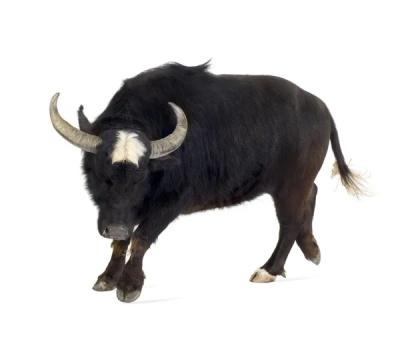buffalo: (50, 63, 360, 300)
